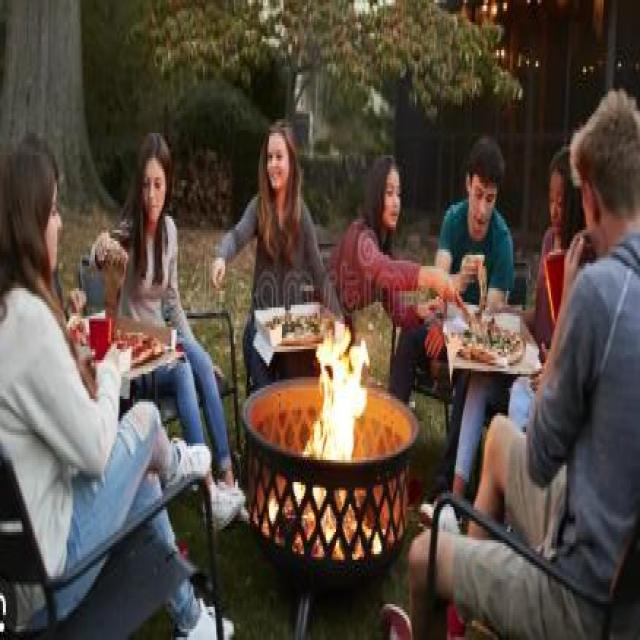Fire_Save: (244, 319, 414, 565)
